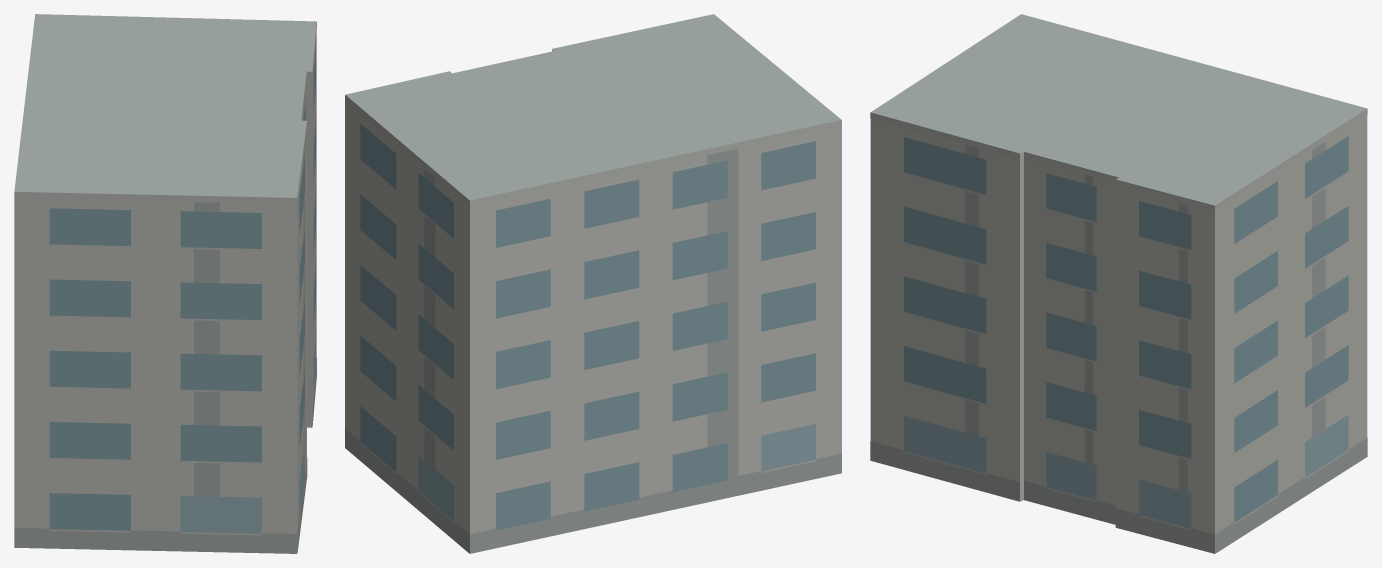
Rendered from survey-upis-32893494.glb.
3 views of the same model, side by side, from view 1: azimuth 30°, elevation 25°; view 2: azimuth 150°, elevation 25°; view 3: azimuth 270°, elevation 25° (orthographic). The views are drawn at different scales.
Visible parts, largest first — view 1: survey-upis-32893494.tmp; view 2: survey-upis-32893494.tmp; view 3: survey-upis-32893494.tmp.
Part boxes in pixels (left/top/right/bottom): survey-upis-32893494.tmp: left=14, top=14, right=316, bottom=553; survey-upis-32893494.tmp: left=345, top=14, right=841, bottom=553; survey-upis-32893494.tmp: left=870, top=14, right=1367, bottom=553.
Bounding box in the file's own units: 15.82 × 13.4 × 17.34.
